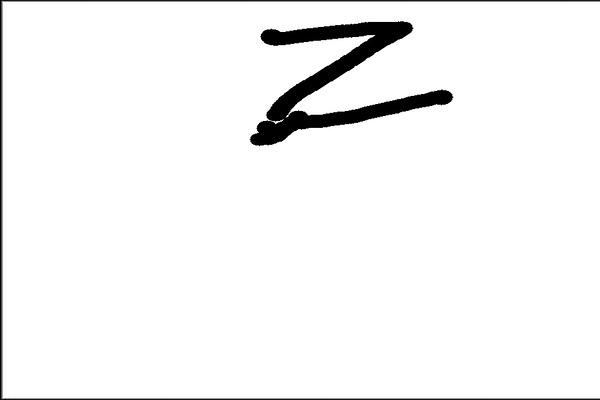Z: (245, 14, 464, 150)
